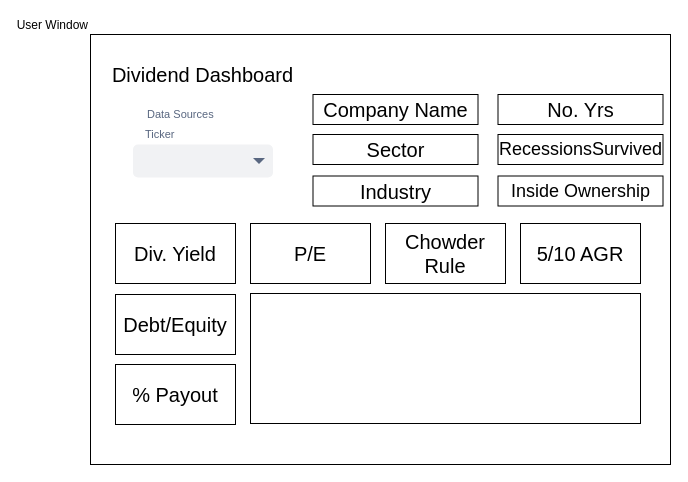
This 688x482 diagram has some shape labels left out. The shapes that lost their labels are listed below. From the top down, each one's centre as x and y in pixels, then its label:
At (x=202, y=160): "Ticker Symbol".
At (x=445, y=358): "Price Chart".
